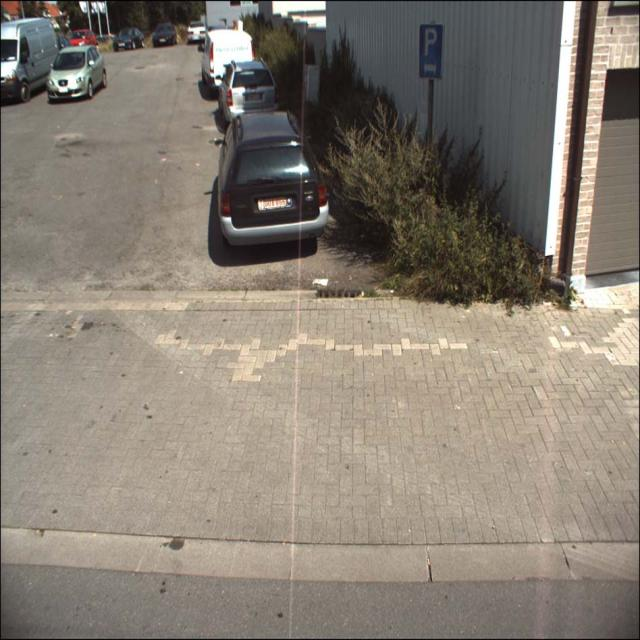park: (418, 23, 441, 79)
